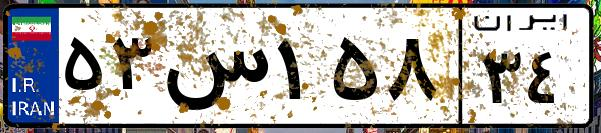1: (270, 28, 330, 110)
3: (475, 38, 525, 113), (110, 28, 158, 98)
4: (525, 38, 570, 115)
5: (330, 28, 385, 110), (57, 26, 110, 100)
8: (385, 28, 445, 110)
س: (158, 20, 270, 120)
